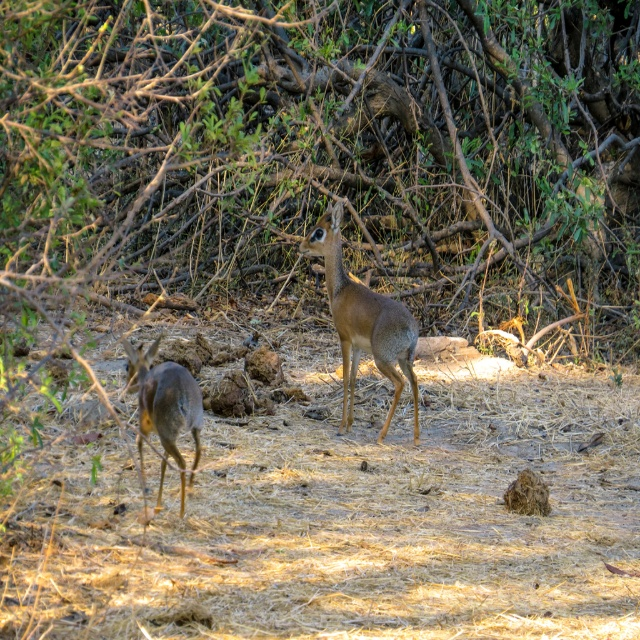Deer: (285, 203, 415, 450), (120, 341, 203, 518)
